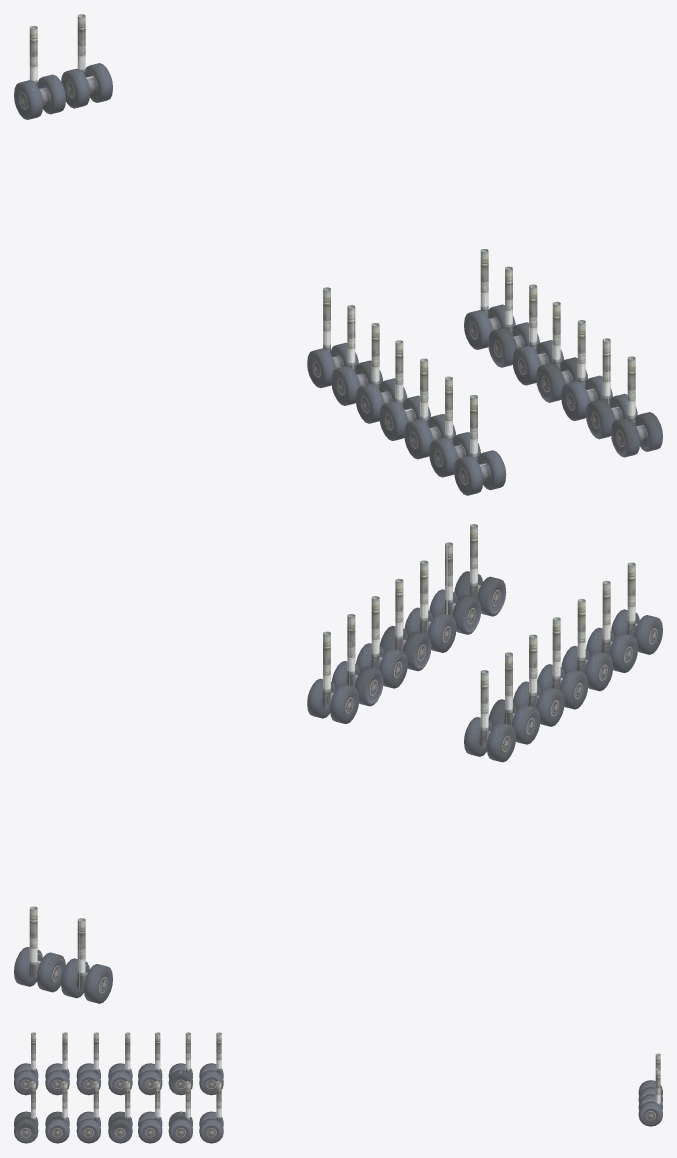
The picture shows the model from 3 angles, top to bottom: view 1: azimuth 30°, elevation 25°; view 2: azimuth 150°, elevation 25°; view 3: azimuth 270°, elevation 25°; orthographic projection. The views are drawn at different scales.
Visible parts, largest first — view 1: L-NG-OS-Tyre, R-MG-7-IS-Tyre, L-MG-7-OS-Tyre, L-MG-5-OS-Tyre, L-MG-4-OS-Tyre, R-MG-4-IS-Tyre, R-MG-5-IS-Tyre, R-MG-6-IS-Tyre, L-MG-6-OS-Tyre, R-MG-1-IS-Tyre, R-NG-IS-Tyre, L-MG-1-OS-Tyre (+8 smaller); view 2: L-NG-OS-Tyre, R-MG-1-IS-Tyre, L-MG-1-OS-Tyre, R-MG-7-IS-Tyre, R-MG-5-IS-Tyre, L-MG-6-OS-Tyre, R-MG-6-IS-Tyre, L-MG-7-OS-Tyre, L-MG-5-OS-Tyre, R-NG-IS-Tyre, L-MG-2-OS-Tyre, R-MG-2-IS-Tyre (+4 smaller); view 3: R-MG-1-OS-Tyre, R-MG-4-OS-Tyre, R-MG-6-OS-Tyre, R-MG-2-OS-Tyre, R-MG-3-OS-Tyre, R-MG-5-OS-Tyre, R-MG-7-OS-Tyre, R-NG-OS-Tyre, L-MG-1-IS-Tyre, L-MG-6-IS-Tyre, L-MG-4-IS-Tyre, L-MG-3-IS-Tyre (+18 smaller).
Part boxes in pixels (x1,y1,x2,y2): L-NG-OS-Tyre: [14, 80, 43, 119]; R-MG-7-IS-Tyre: [611, 417, 639, 457]; L-MG-7-OS-Tyre: [454, 456, 483, 495]; L-MG-5-OS-Tyre: [404, 419, 433, 459]; L-MG-4-OS-Tyre: [379, 401, 408, 440]; R-MG-4-IS-Tyre: [536, 363, 564, 402]; R-MG-5-IS-Tyre: [561, 381, 589, 420]; R-MG-6-IS-Tyre: [586, 399, 614, 439]; L-MG-6-OS-Tyre: [429, 437, 457, 477]; R-MG-1-IS-Tyre: [464, 310, 492, 349]; R-NG-IS-Tyre: [61, 68, 90, 108]; L-MG-1-OS-Tyre: [307, 348, 335, 388]; L-NG-OS-Tyre: [83, 964, 112, 1003]; R-MG-1-IS-Tyre: [330, 684, 359, 723]; L-MG-1-OS-Tyre: [487, 722, 515, 762]; R-MG-7-IS-Tyre: [477, 576, 506, 616]; R-MG-5-IS-Tyre: [427, 613, 456, 652]; L-MG-6-OS-Tyre: [609, 633, 637, 672]; R-MG-6-IS-Tyre: [452, 595, 481, 634]; L-MG-7-OS-Tyre: [634, 615, 662, 654]; L-MG-5-OS-Tyre: [584, 651, 613, 691]; R-NG-IS-Tyre: [37, 952, 65, 992]; L-MG-2-OS-Tyre: [511, 704, 540, 744]; R-MG-2-IS-Tyre: [354, 666, 383, 706]; R-MG-1-OS-Tyre: [199, 1118, 223, 1143]; R-MG-4-OS-Tyre: [108, 1118, 132, 1143]; R-MG-6-OS-Tyre: [45, 1118, 69, 1143]; R-MG-2-OS-Tyre: [168, 1118, 192, 1143]; R-MG-3-OS-Tyre: [138, 1118, 162, 1143]; R-MG-5-OS-Tyre: [76, 1118, 100, 1143]; R-MG-7-OS-Tyre: [14, 1118, 38, 1143]; R-NG-OS-Tyre: [638, 1101, 662, 1126]; L-MG-1-IS-Tyre: [199, 1070, 223, 1095]; L-MG-6-IS-Tyre: [45, 1070, 69, 1095]; L-MG-4-IS-Tyre: [108, 1070, 132, 1095]; L-MG-3-IS-Tyre: [138, 1070, 162, 1095].
Bounding box in the file's own units: 7.61 × 3.37 × 35.04.
Materials: 1 (1 with a texture image).
